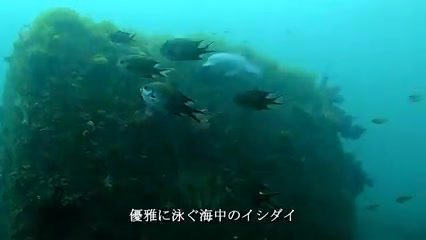mezina: (138, 78, 214, 132), (156, 36, 219, 62), (229, 86, 283, 115), (104, 27, 138, 48)
smallfish: (201, 51, 264, 82)
